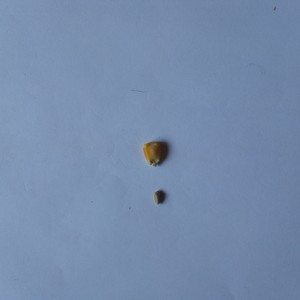maiz: (142, 136, 169, 170)
trigo: (152, 190, 167, 207)
